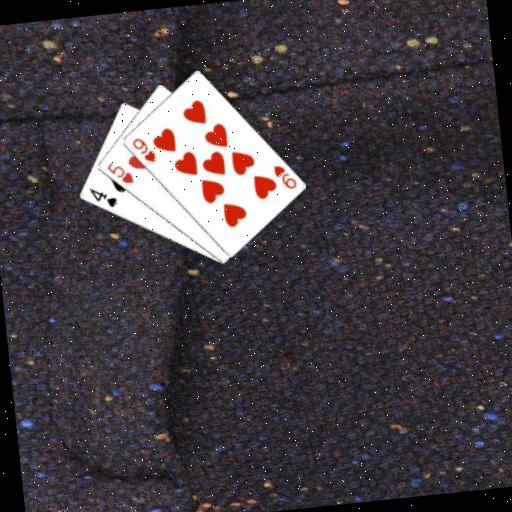4S: (87, 183, 119, 211)
5H: (103, 157, 135, 187)
9H: (128, 134, 158, 167), (271, 160, 299, 193)
